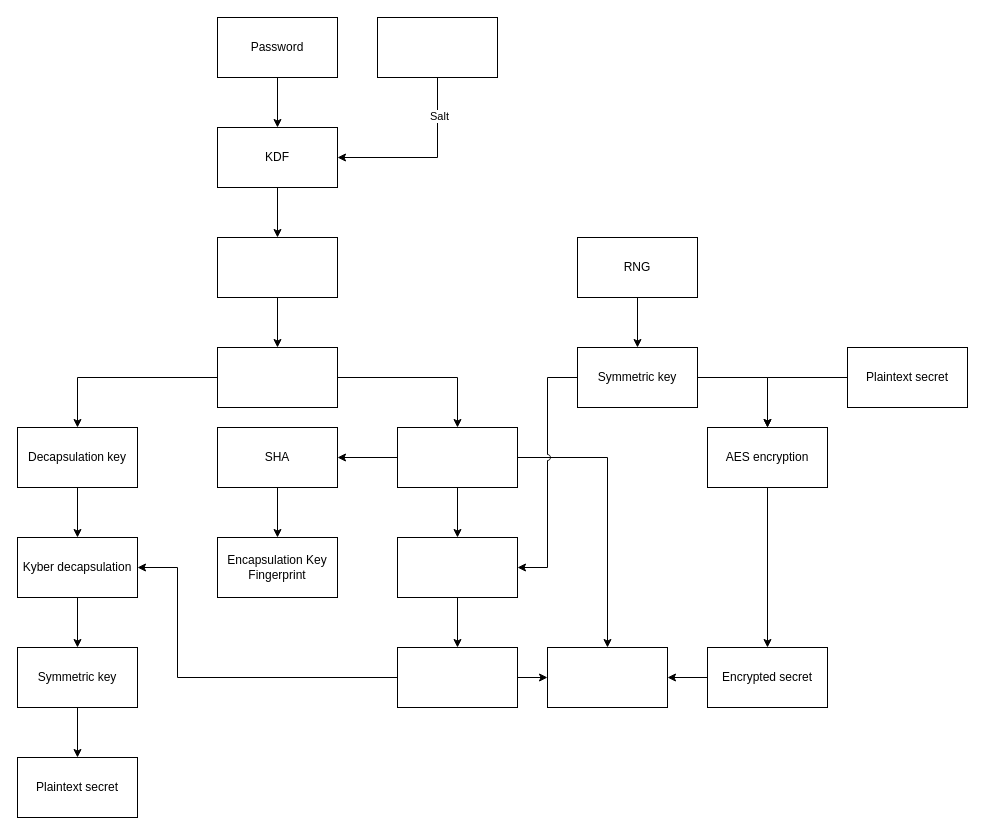
Image size: 985x835. Some labels were removed from this diagram. The centre of each missing label's shape, as x and y in pixels:
"Cipherly" + Username: pixel 437 47
Encapsulated symmetric key: pixel 457 677
Encapsulation key: pixel 457 457
Kyber encapsulation: pixel 457 567
Kyber key generation: pixel 277 377
Server: pixel 607 677
Stretched key: pixel 277 267
